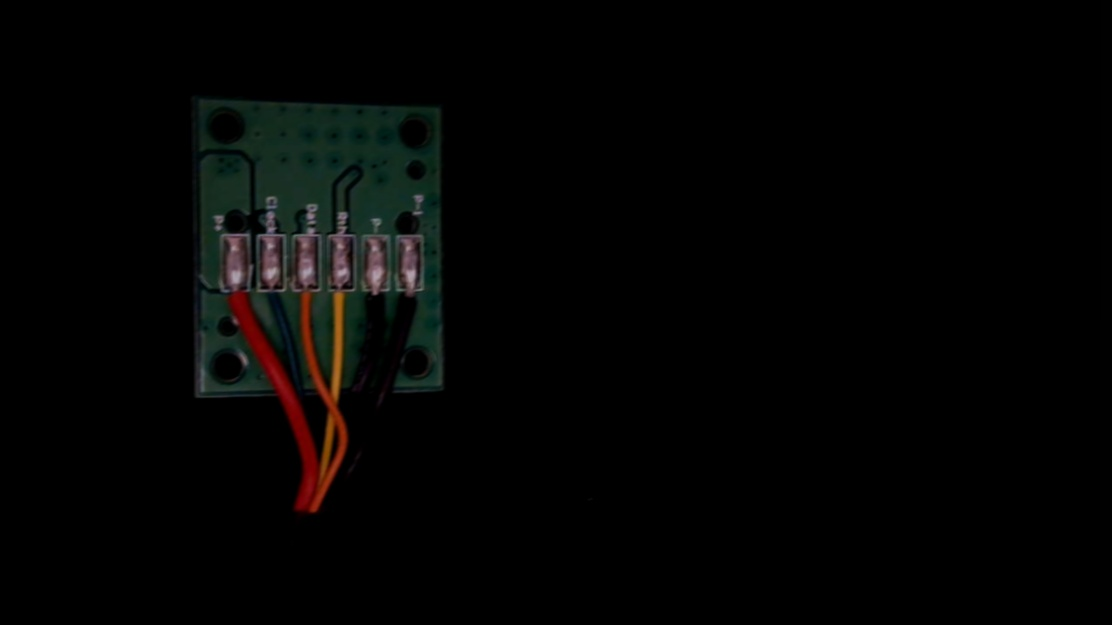Black: (360, 272, 390, 337)
Black1: (397, 274, 426, 333)
Green: (255, 271, 285, 333)
Orange: (294, 271, 322, 335)
Red: (221, 269, 251, 331)
Yellow: (326, 271, 356, 336)
